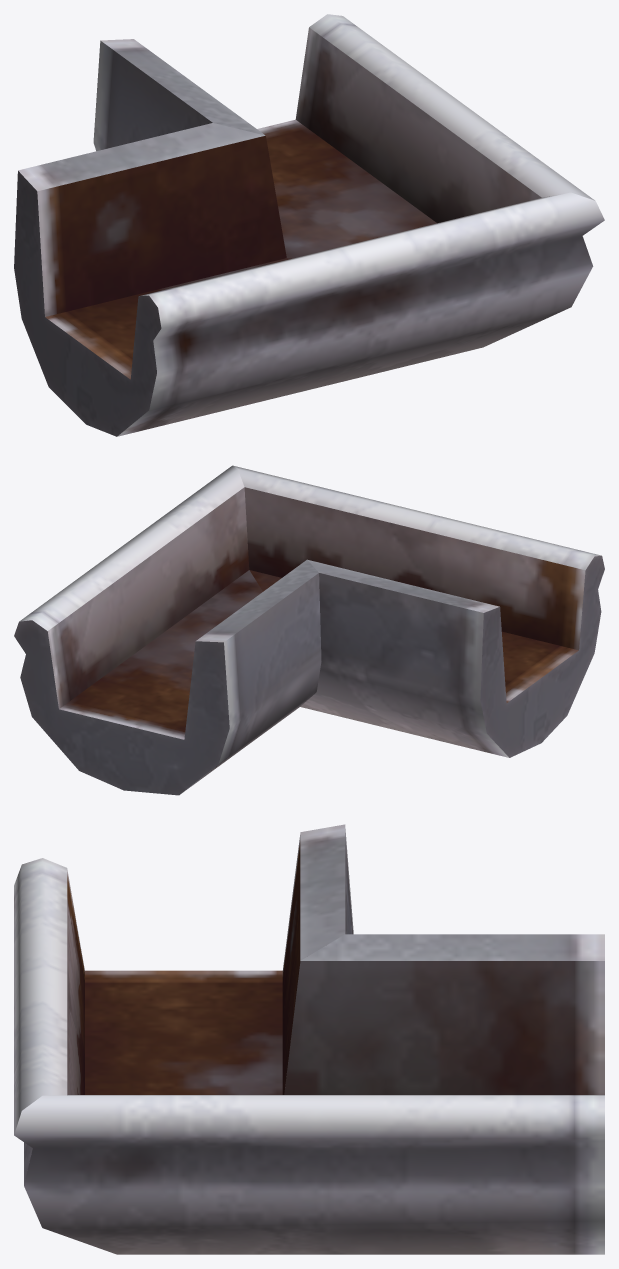
File: PropRoofDrainage01_7.FBX
3 renders of one model, top to bottom at view 1: azimuth 30°, elevation 25°; view 2: azimuth 150°, elevation 25°; view 3: azimuth 270°, elevation 25°, orthographic. The views are drawn at different scales.
Visible parts, largest first — view 1: PropRoofDrainage01_7; view 2: PropRoofDrainage01_7; view 3: PropRoofDrainage01_7.
Boxes of the visible parts, x1,y1,x2,y2 form: PropRoofDrainage01_7: (14,14,604,436); PropRoofDrainage01_7: (14,465,604,795); PropRoofDrainage01_7: (14,824,604,1254).
Size of what is drawn, in the model's own units: 0.4228 by 0.186 by 0.4228.
